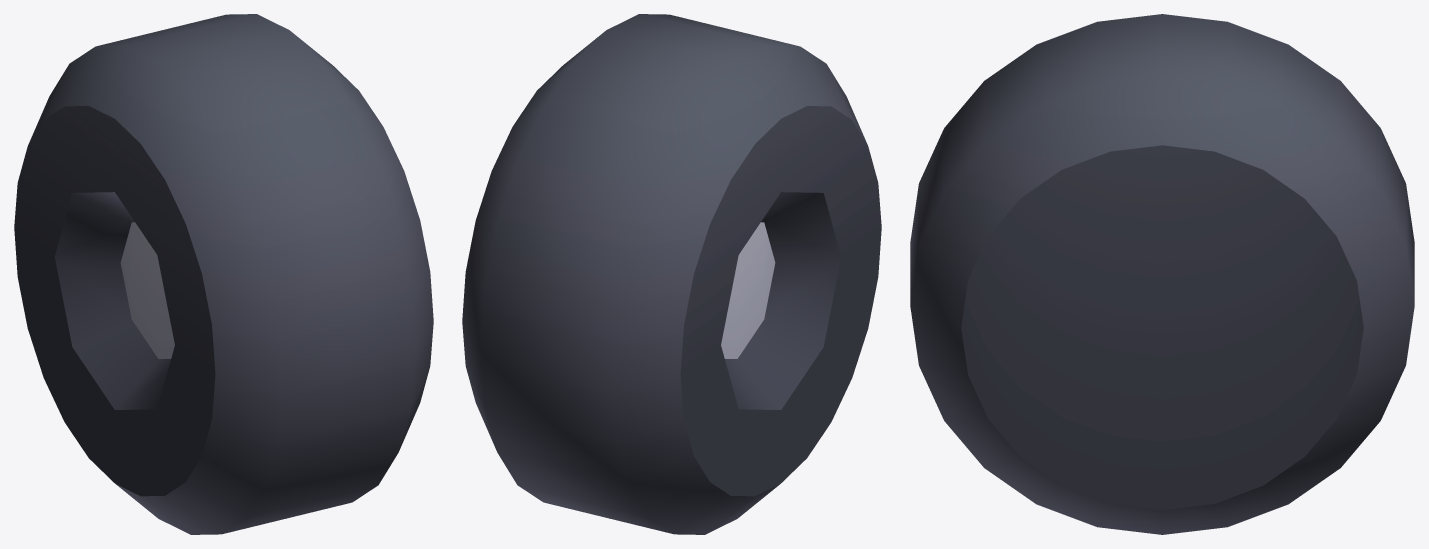
File: wheel-medium.glb
3 renders of one model, left to right at view 1: azimuth 30°, elevation 25°; view 2: azimuth 150°, elevation 25°; view 3: azimuth 270°, elevation 25°, orthographic.
Visible parts, largest first — view 1: wheel-medium; view 2: wheel-medium; view 3: wheel-medium.
Boxes of the visible parts, bbox=[...] form: wheel-medium: bbox=[14, 14, 433, 534]; wheel-medium: bbox=[462, 14, 881, 534]; wheel-medium: bbox=[910, 14, 1414, 534].
Bounding box in the file's own units: 0.1563 × 0.3125 × 0.3125.
Materials: 1 (1 with a texture image).
